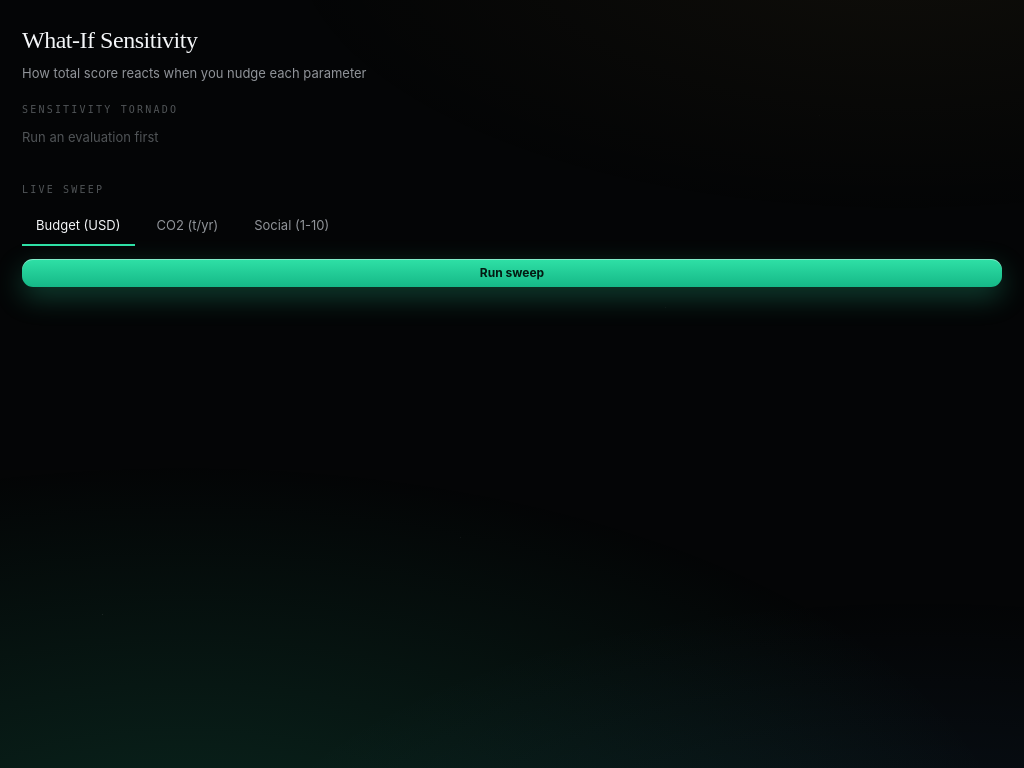
it: a sweep stops when the role is refused › stops at a 403, keeps the session, and says why
Click the button "Run sweep" at (512, 273), box [22,259,1002,287]
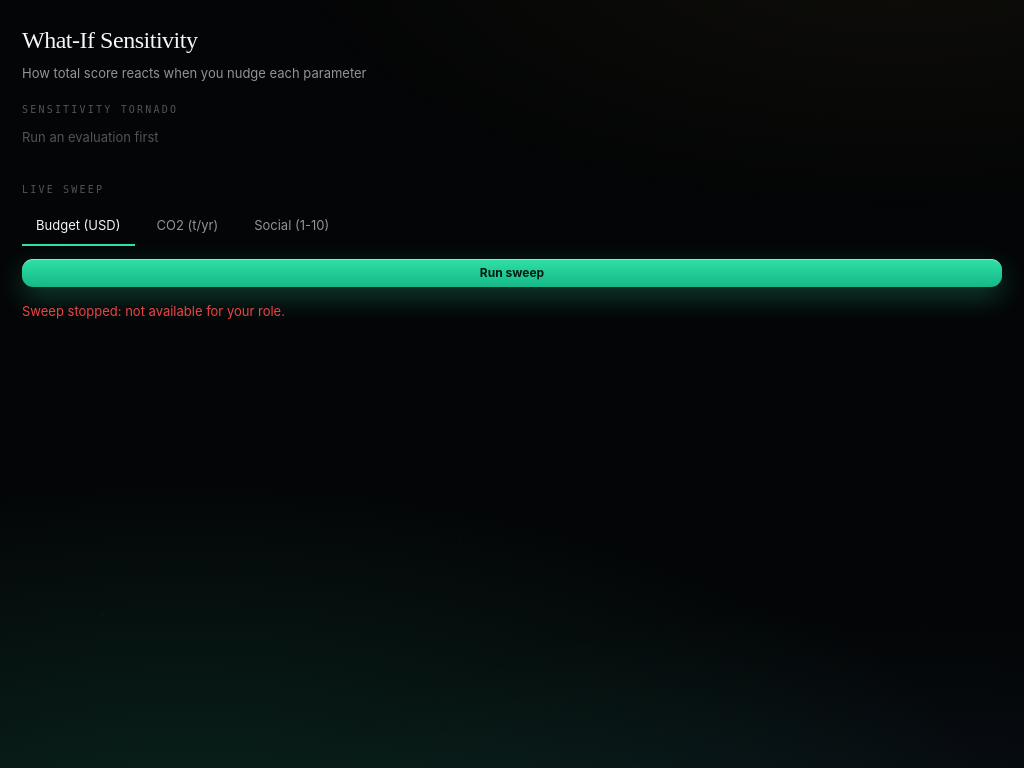
expect the message reads "Sweep stopped: not available for your role.": met, box [22,303,285,319]
